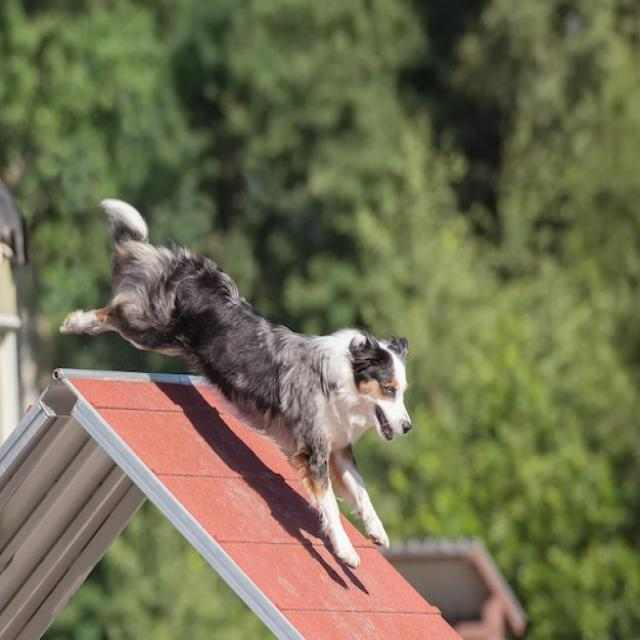Dog: (62, 198, 410, 568)
